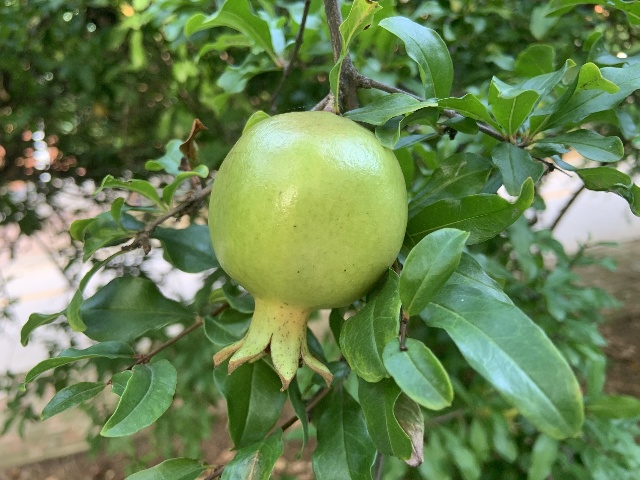mid-growth: (207, 110, 408, 392)
